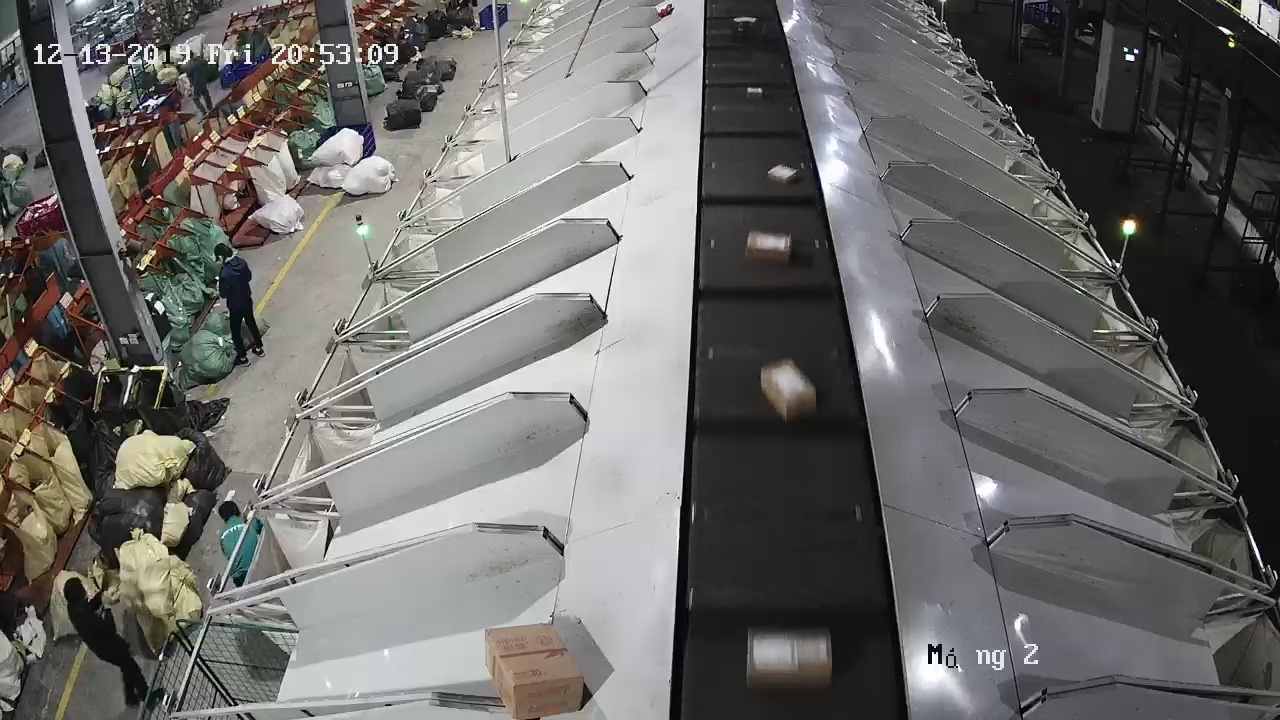parcel: (766, 162, 797, 185)
